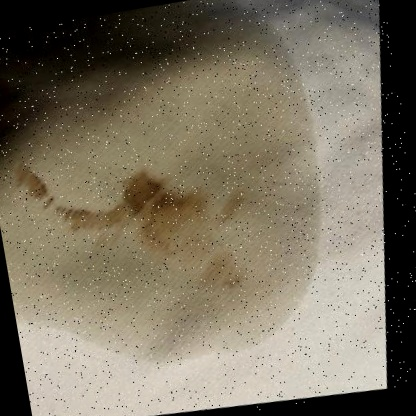coffee: (0, 38, 325, 348)
